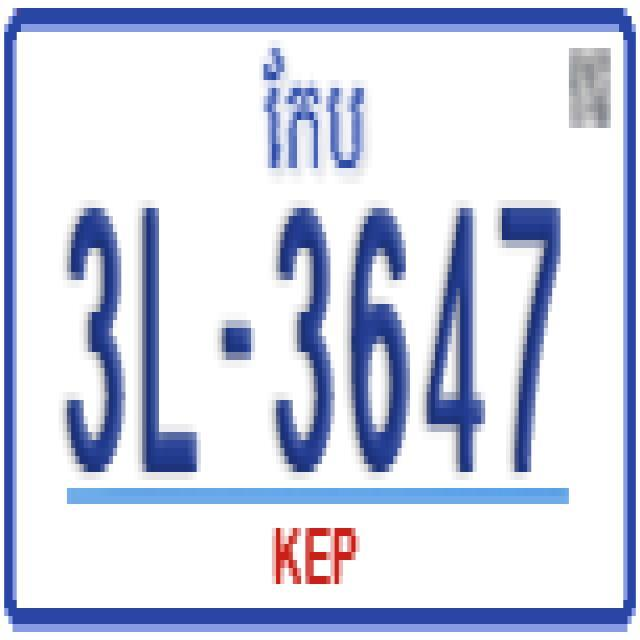Kep: (256, 41, 370, 178)
